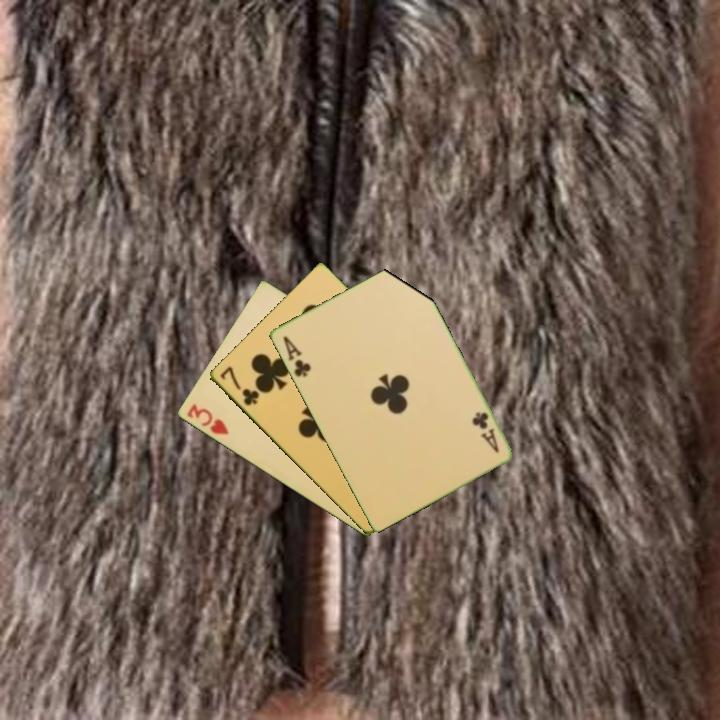3h: (183, 400, 231, 438)
7c: (216, 363, 262, 409)
Ac: (279, 332, 313, 380), (468, 408, 502, 456)
